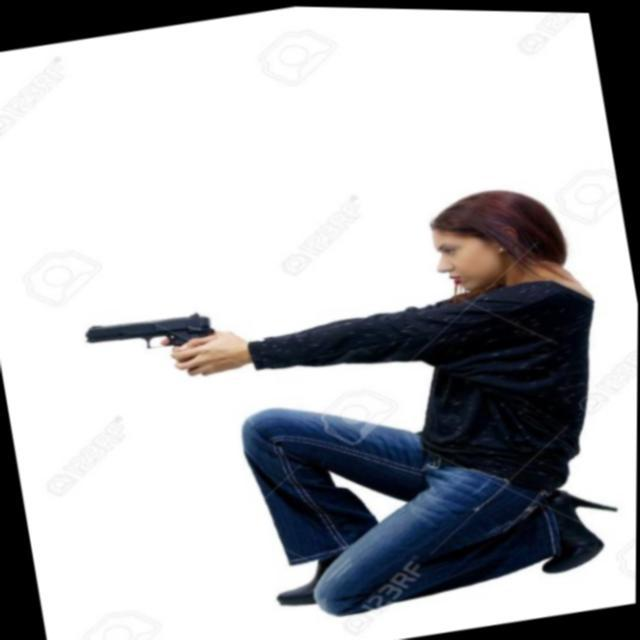weapon: (144, 165, 639, 640), (82, 304, 222, 386)
